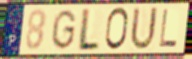8: (24, 7, 48, 53)
G: (50, 8, 78, 51)
L: (75, 7, 102, 52), (158, 9, 179, 49)
O: (103, 6, 130, 52)
U: (128, 6, 159, 53)
